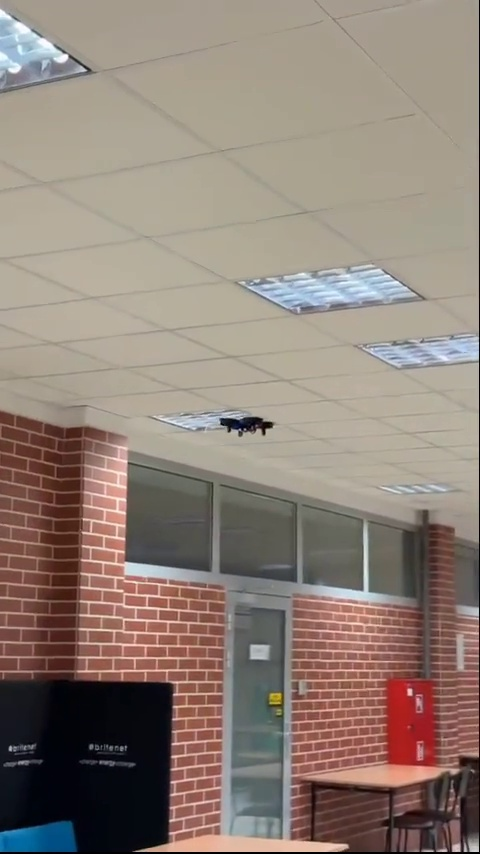drone: (219, 410, 274, 436)
